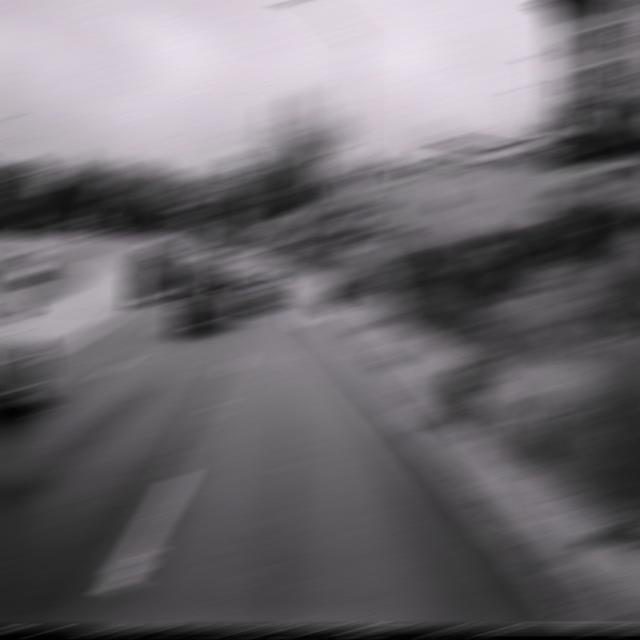pedestrianCrossing: (335, 161, 373, 208)
